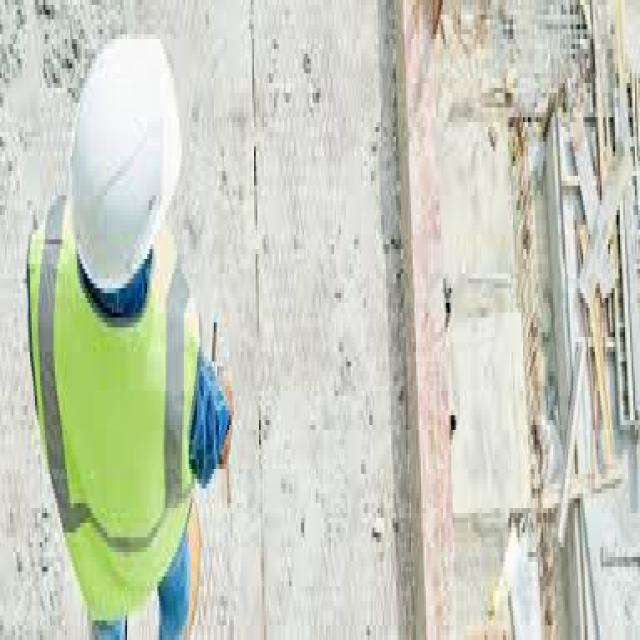Reflective-Jacket: (18, 220, 210, 640)
Safety-Helmet: (55, 10, 189, 298)
